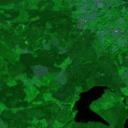alloviz: (71, 83, 111, 126)
